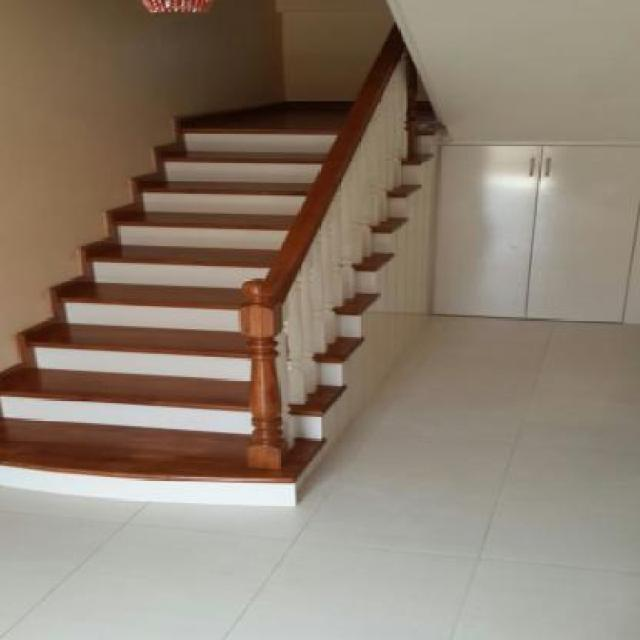stair: (0, 43, 469, 502)
